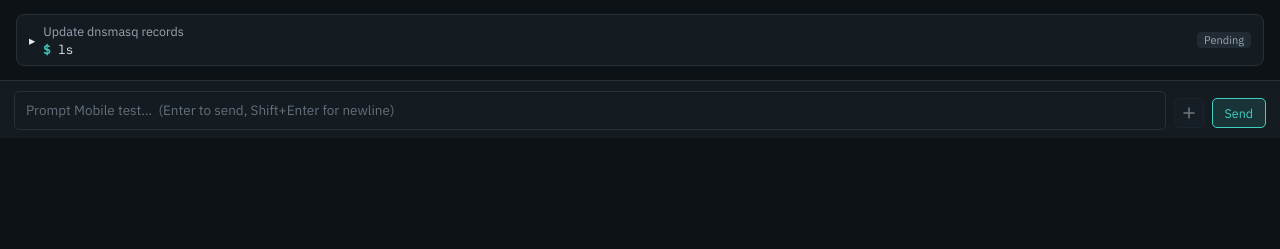
Scenario: TranscriptPane voice rendering › shows a pending execute description in the header instead of as output
Check: the text with class "tool-cmd-desc" reads "Update dnsmasq records", box [43,23,184,39]
Click the element with class "card-head" at (114, 31), box [17,15,1263,65]
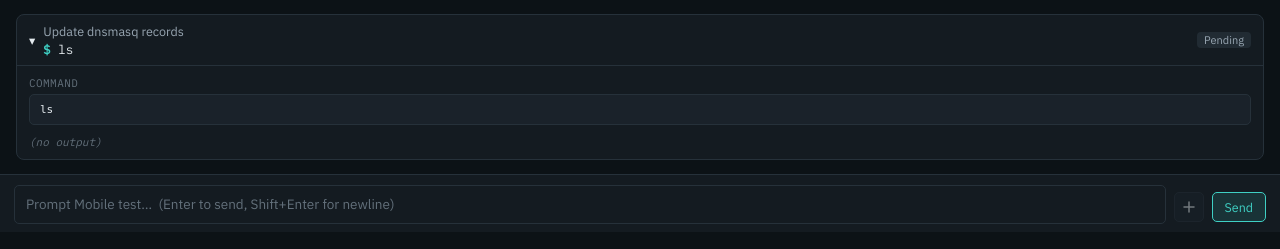
Check: the text "(no output)" is shown, box [29,135,102,149]
